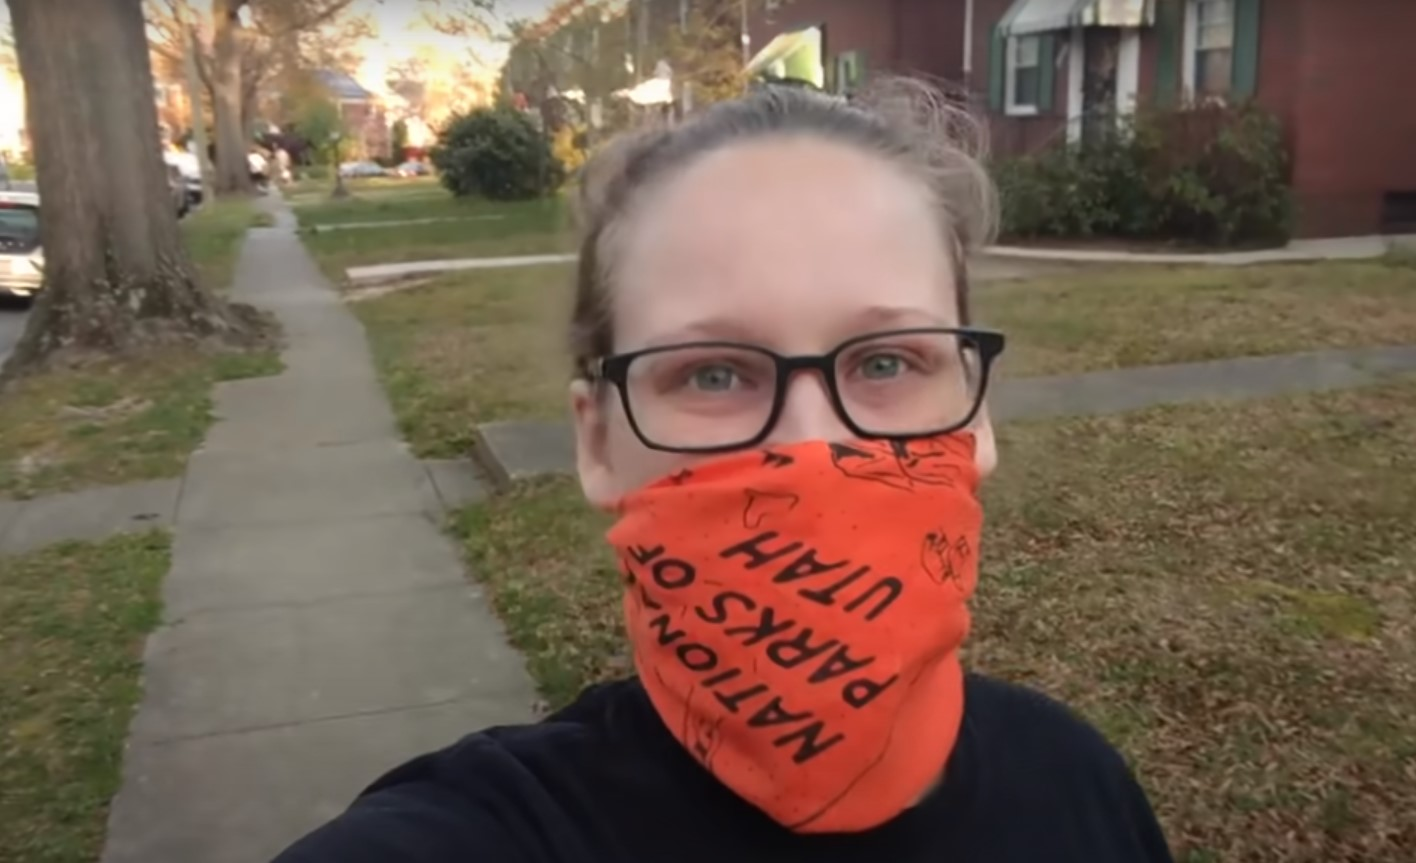face_with_mask: (576, 117, 994, 699)
